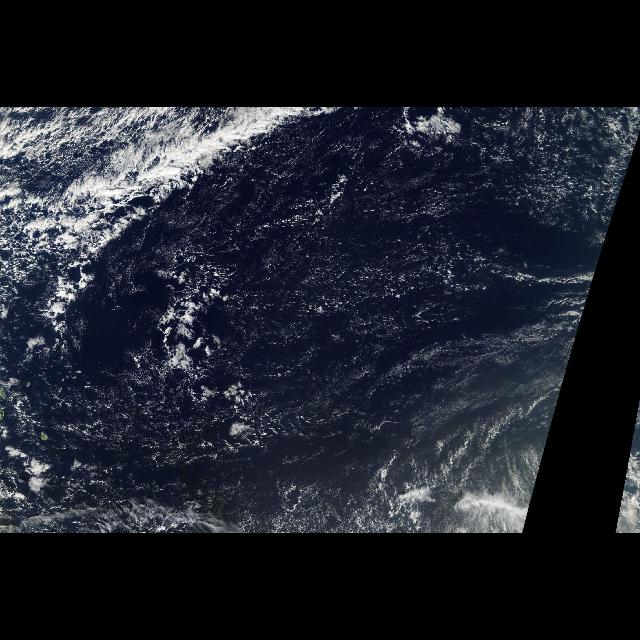Gravel: (267, 125, 579, 358)
